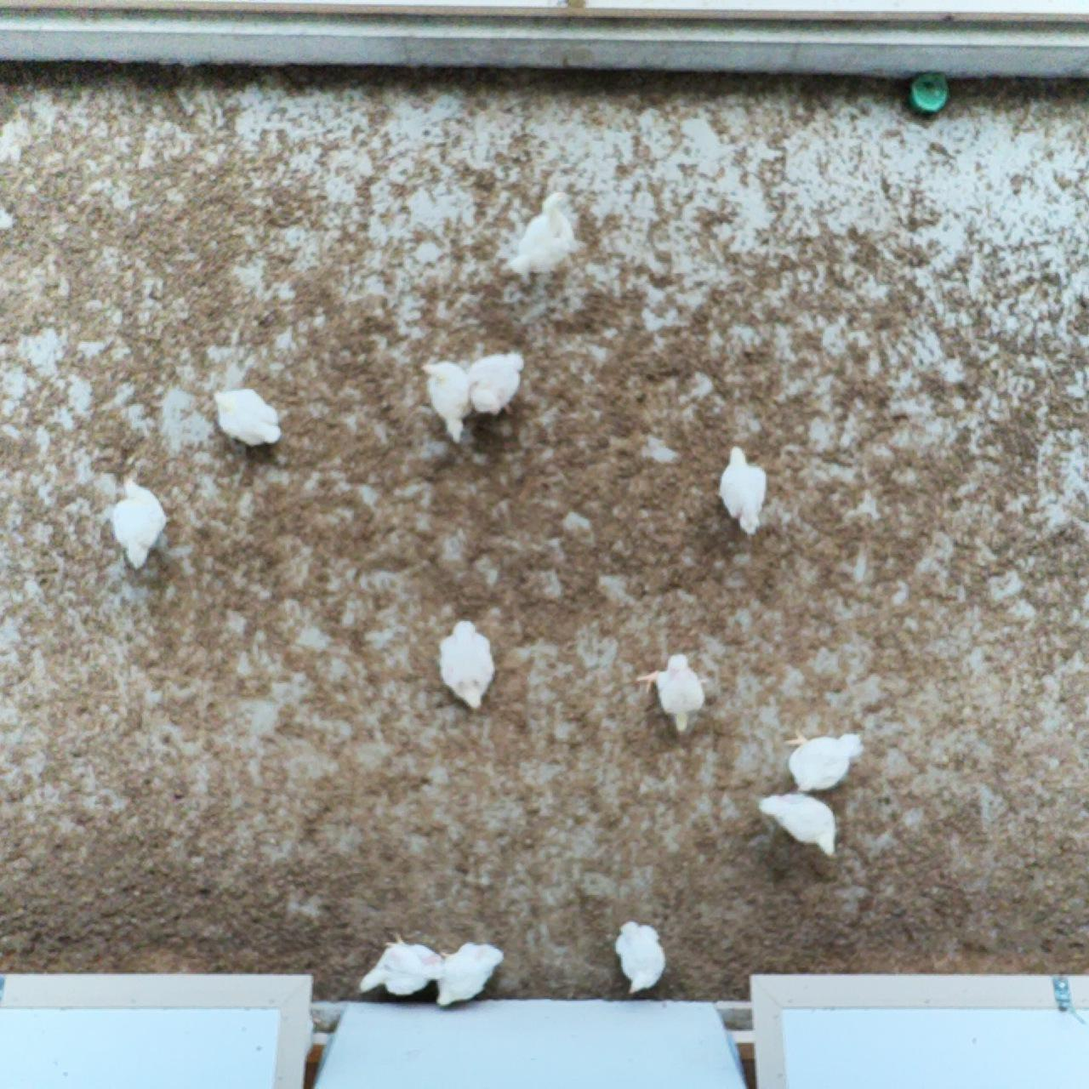chicken: (506, 191, 586, 285), (634, 646, 706, 737), (357, 929, 446, 1002), (435, 616, 500, 713), (108, 472, 171, 572), (757, 791, 841, 862), (780, 725, 868, 791), (713, 442, 771, 539), (208, 384, 289, 452), (416, 356, 475, 444), (434, 938, 506, 1008), (465, 349, 530, 419), (611, 917, 668, 996)
